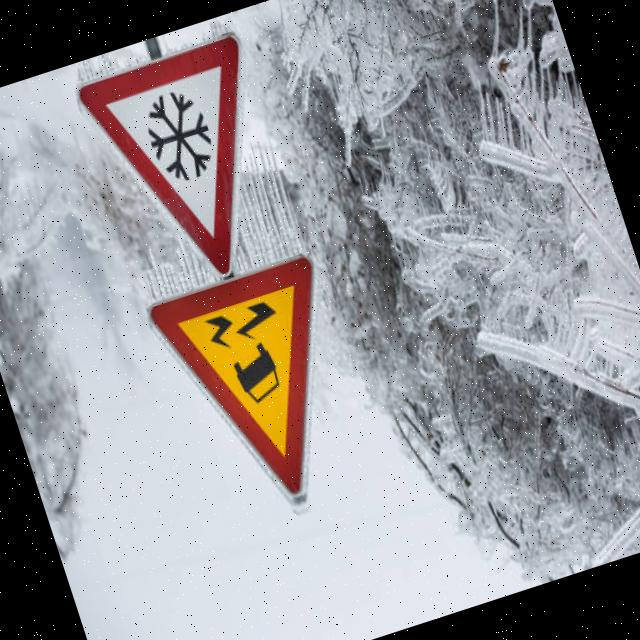road_slippery: (138, 248, 386, 531)
